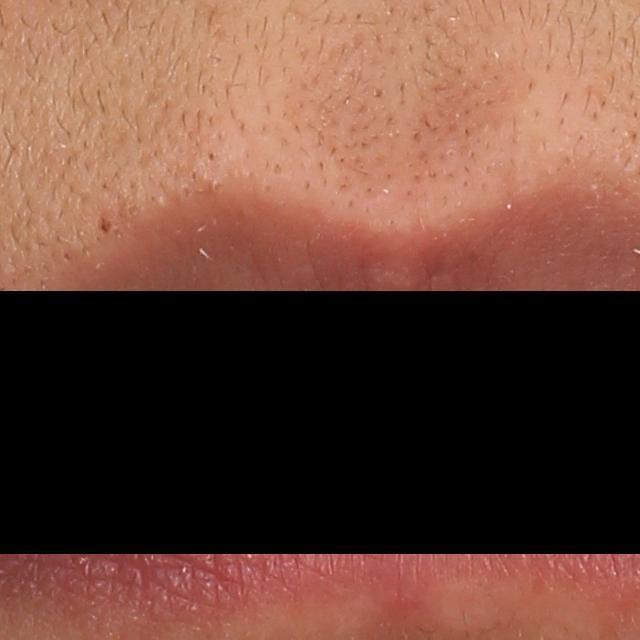nevus: (96, 209, 115, 233)
